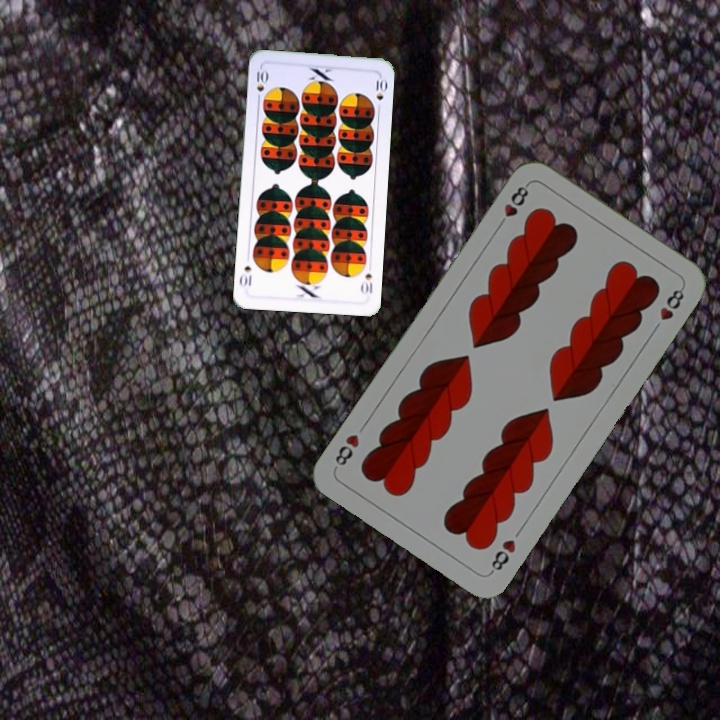H8: (493, 179, 532, 232), (486, 535, 519, 577)
S10: (253, 64, 269, 105), (357, 269, 375, 296)
